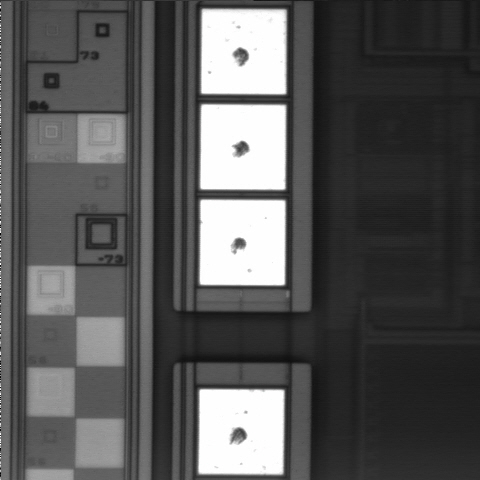pad: (200, 105, 286, 190), (201, 9, 286, 94), (200, 200, 285, 285), (199, 389, 284, 474)
